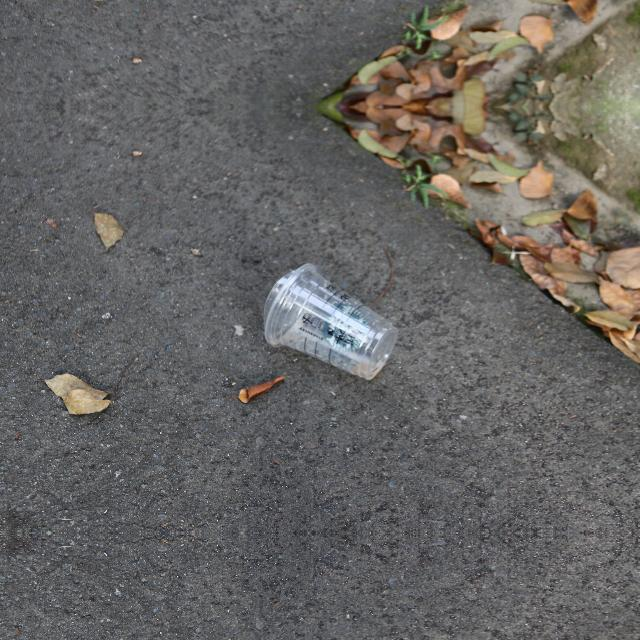Plastic: (262, 261, 400, 381)
